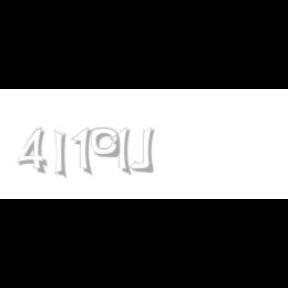1: (71, 128, 93, 176), (110, 128, 132, 176)
4: (16, 128, 48, 174)
I: (54, 128, 68, 180)
J: (130, 128, 154, 172)
o: (90, 128, 119, 158)
